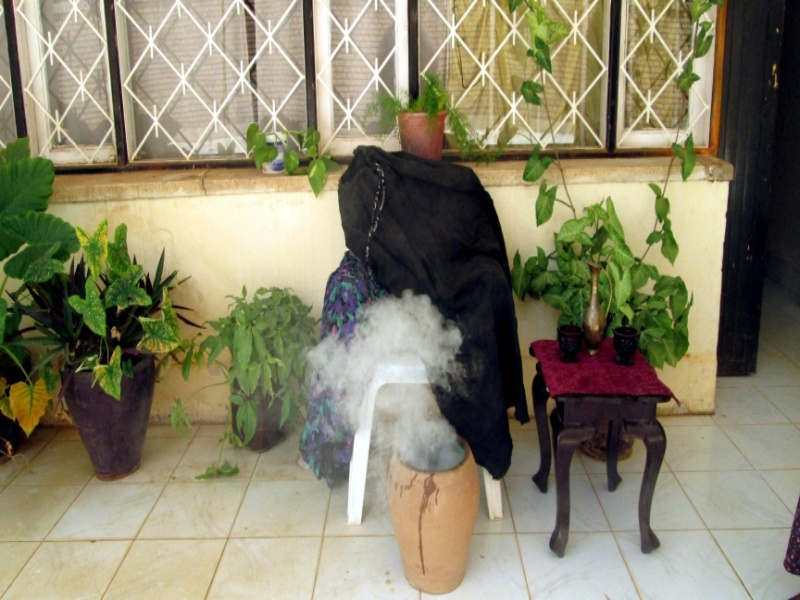smoke: (320, 299, 451, 464)
